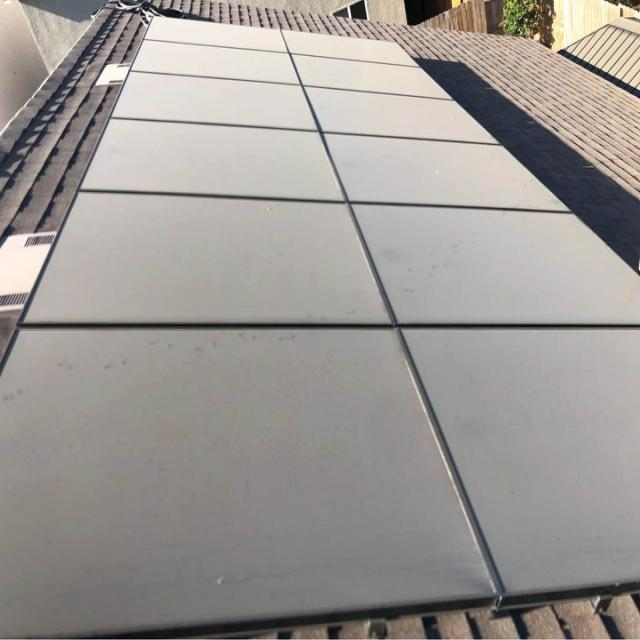dust-solar-panel: (1, 15, 639, 640)
